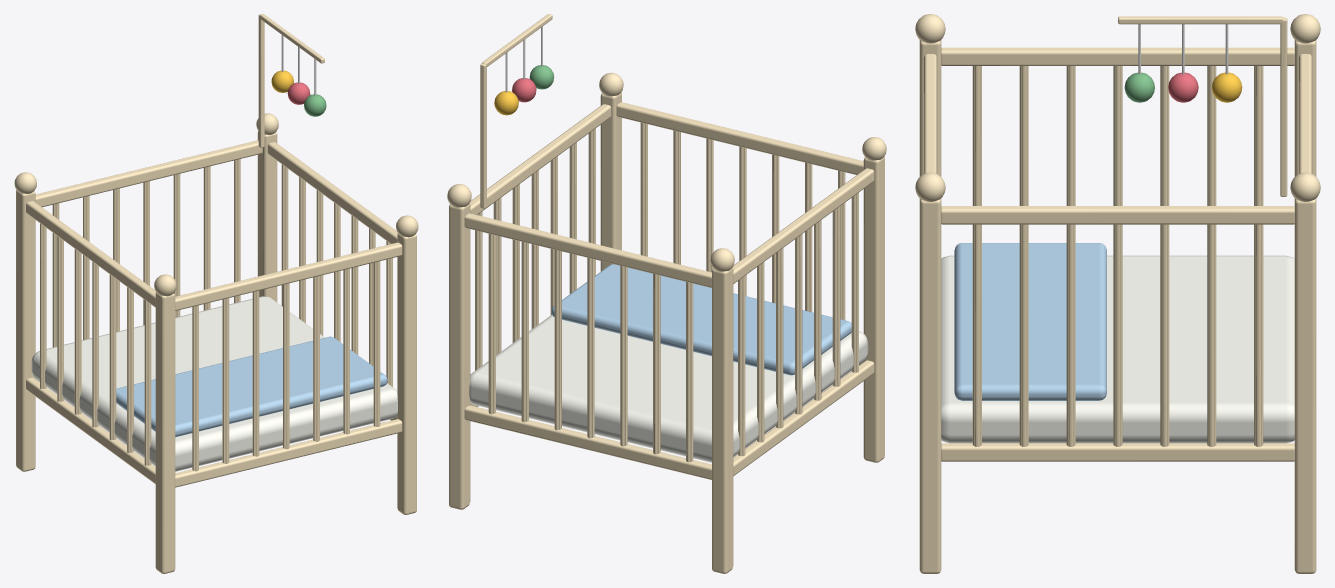
The model's file is crib.glb.
3 views of the same model, side by side, from view 1: azimuth 30°, elevation 25°; view 2: azimuth 150°, elevation 25°; view 3: azimuth 270°, elevation 25° (orthographic). The views are drawn at different scales.
Visible parts, largest first — view 1: Cube.012, Cube.013, Cube.001, Cube.003, Cube, Cube.009, Cube.008, Cube.005, Cube.002, Cube.010, Cube.011, Cube.006 (+30 smaller); view 2: Cube.012, Cube.013, Cube, Cube.002, Cube.001, Cube.008, Cube.009, Cube.004, Cube.003, Cube.010, Cube.011, Cube.006 (+30 smaller); view 3: Cube.012, Cube.013, Cube.002, Cube.003, Cube.011, Cube.007, Cube.010, Cylinder.003, Cylinder.007, Cylinder.015, Cylinder.023, Cylinder.027 (+22 smaller).
Part boxes in pixels (x1,y1,x2,y2): Cube.012: (31,296,397,471); Cube.013: (116,336,387,436); Cube.001: (155,292,175,573); Cube.003: (397,233,416,514); Cube: (16,190,35,471); Cube.009: (175,242,402,310); Cube.008: (35,140,262,207); Cube.005: (175,419,402,487); Cube.002: (257,131,277,302); Cube.010: (26,201,155,307); Cube.011: (267,142,397,243); Cube.006: (26,377,155,483); Cube.012: (469,315,868,462); Cube.013: (551,264,851,375); Cube: (712,267,733,573); Cube.002: (449,203,470,509); Cube.001: (863,156,884,462); Cube.008: (464,213,711,287); Cube.009: (616,102,863,174); Cube.004: (464,405,711,479); Cube.003: (600,92,621,271); Cube.010: (732,168,874,283); Cube.011: (469,104,611,214); Cube.006: (733,360,874,475); Cube.012: (941,255,1294,443); Cube.013: (954,243,1106,400); Cube.002: (1294,198,1316,573); Cube.003: (919,198,941,573); Cube.011: (941,206,1294,224); Cube.007: (941,443,1294,461); Cube.010: (941,47,1294,65); Cylinder.003: (1254,224,1263,446); Cylinder.007: (1207,224,1216,446); Cylinder.015: (1113,224,1122,446); Cylinder.023: (1019,224,1028,446); Cylinder.027: (972,224,981,446).
Size of the model in its own units: 0.93 by 1.38 by 0.93.
